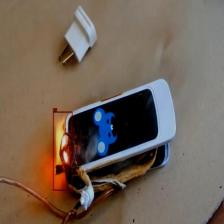fire: (53, 112, 72, 190)
